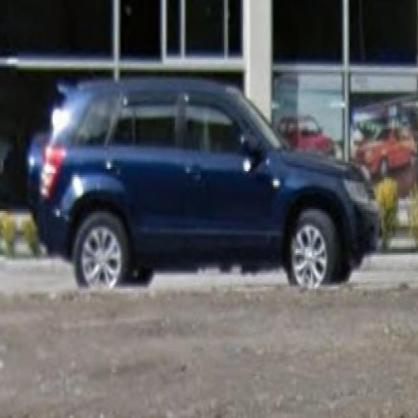car: (22, 77, 386, 296)
